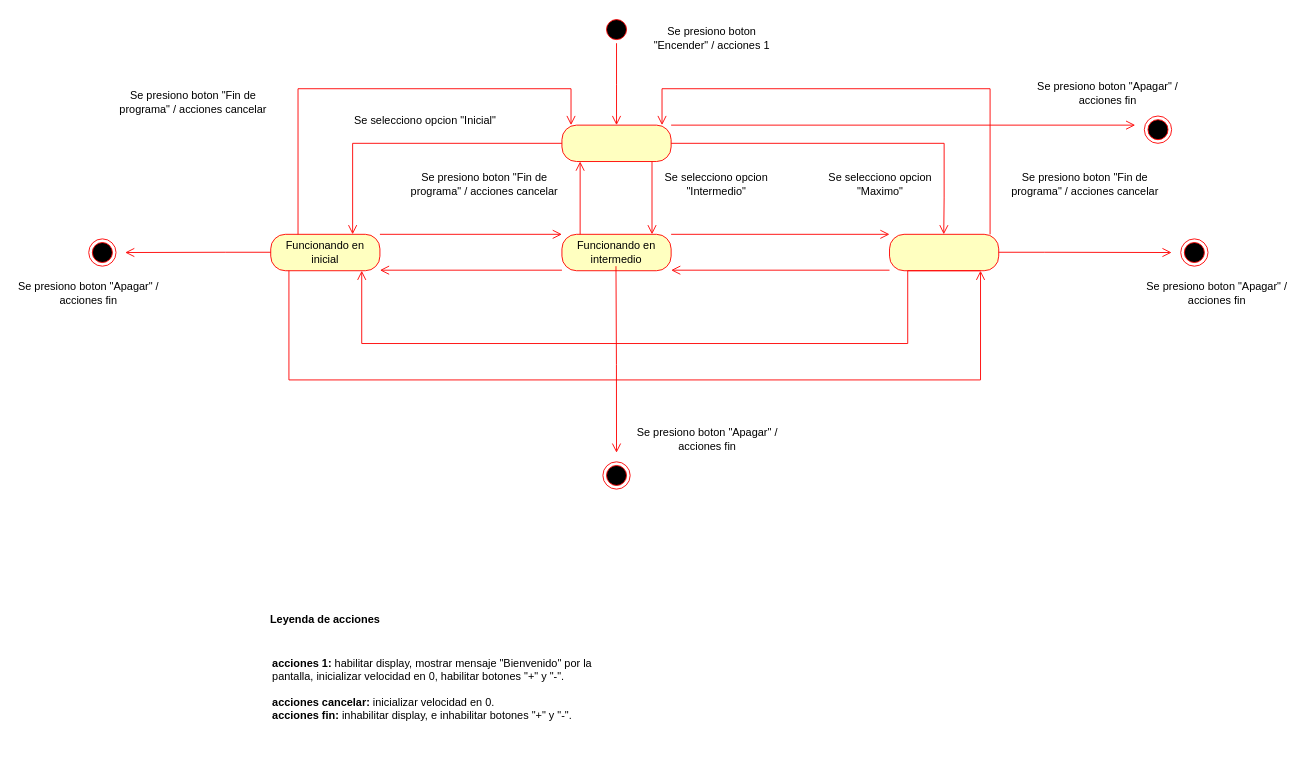
This 1305x760 diagram has some shape labels left out. Here are the shapes that lost their labels. From the top down, the box of each, then its label:
(561, 124, 671, 162): Esperando opcion
(889, 233, 999, 271): Funcionando en maximo
